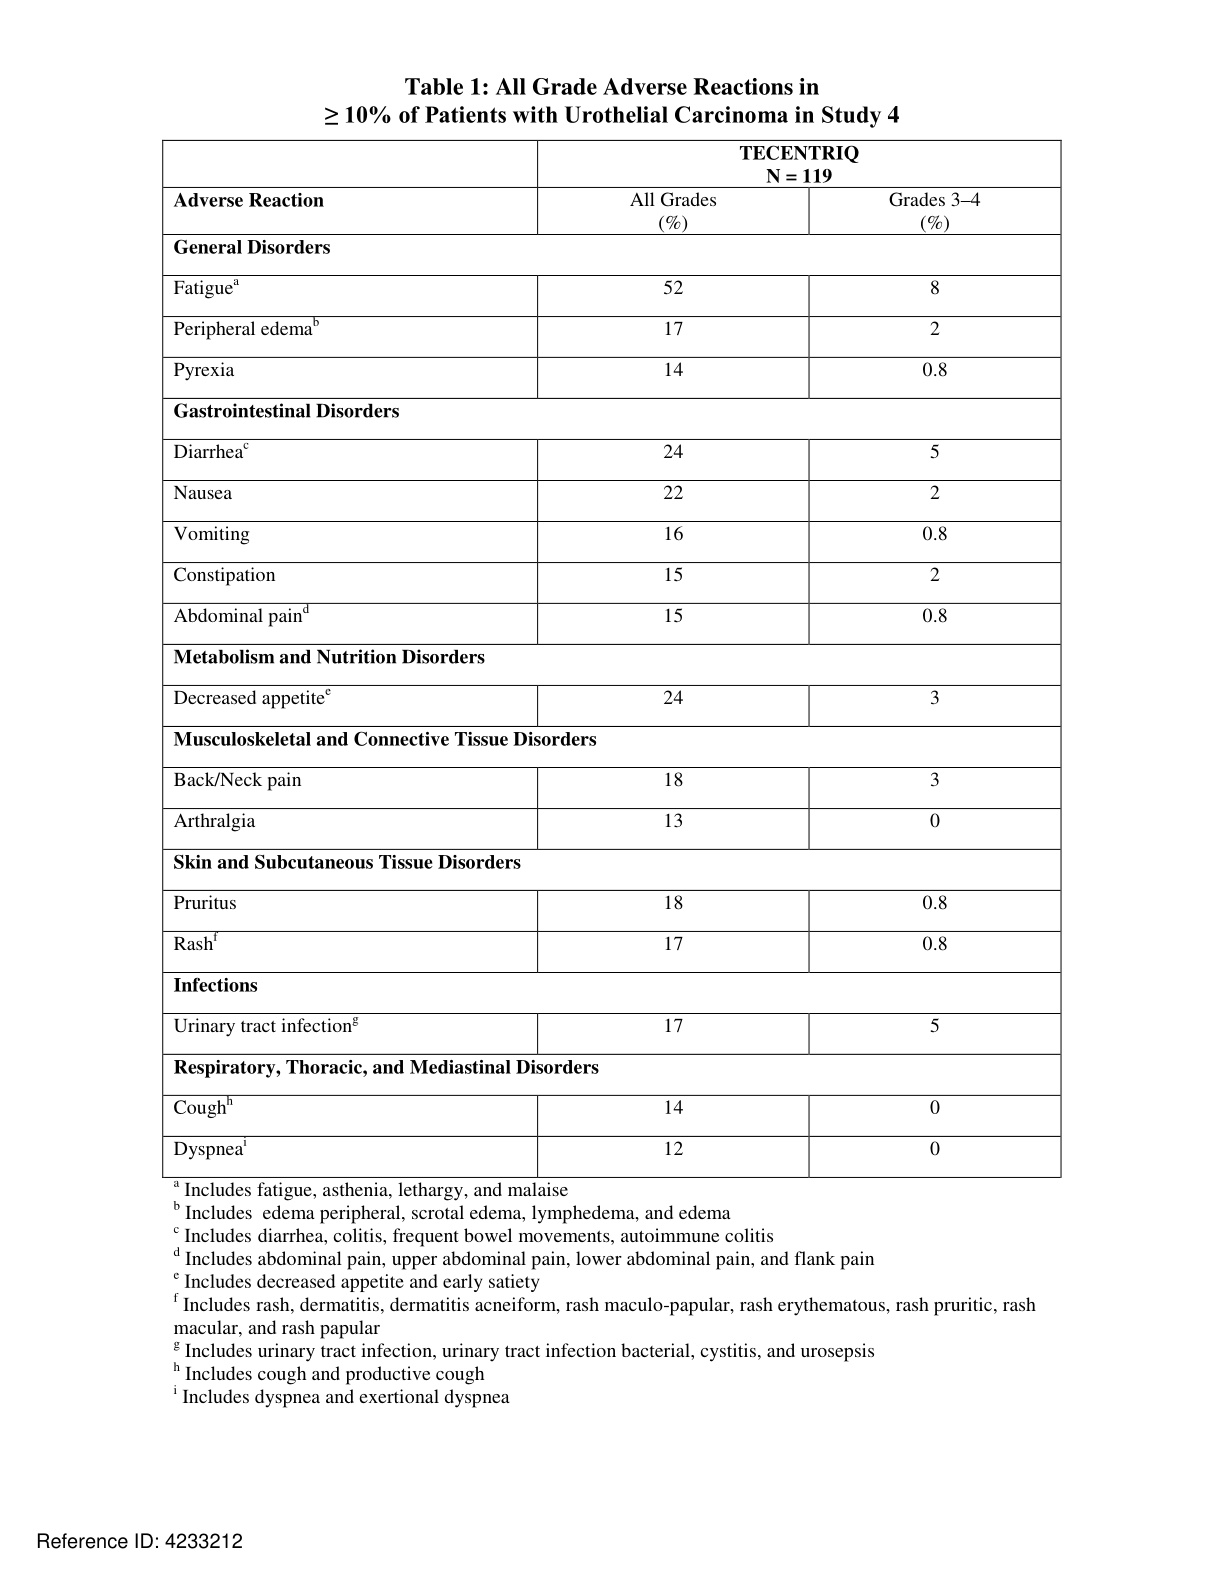merged_cells: (161, 139, 1063, 1178)
